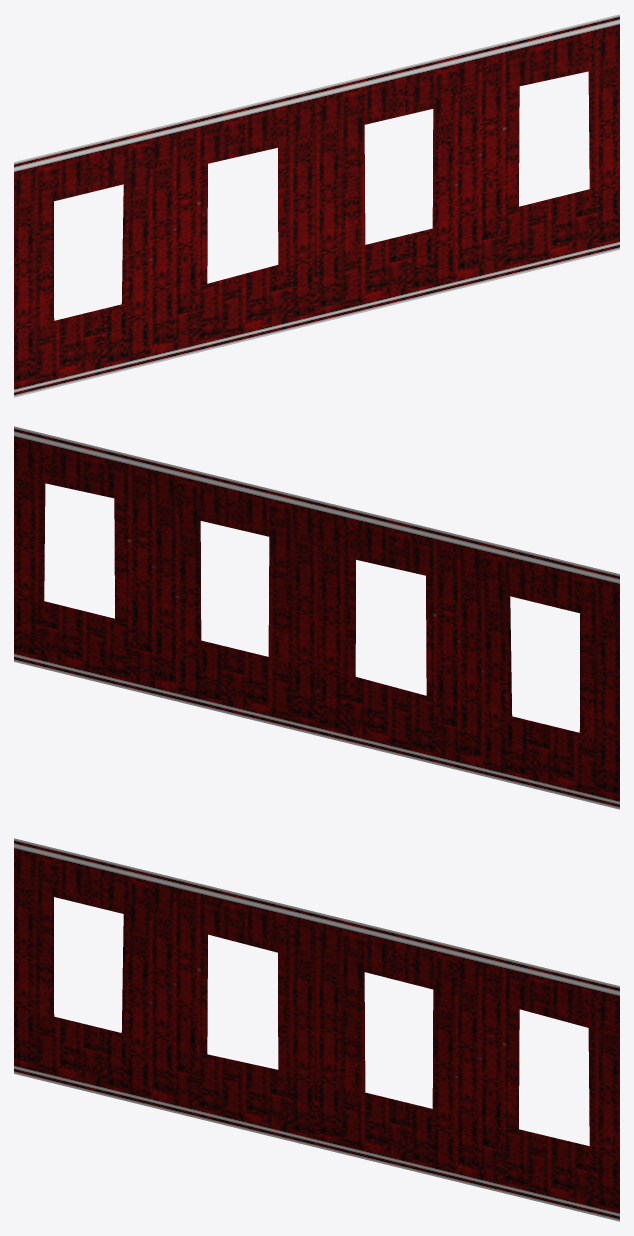
Rendered from W_AI1_ffff [Rot]_2098.glb.
3 renders of one model, top to bottom at view 1: azimuth 30°, elevation 25°; view 2: azimuth 150°, elevation 25°; view 3: azimuth 330°, elevation 25°, orthographic.
Parts seen in each view (by area): view 1: polySurfaceShape786; view 2: polySurfaceShape786; view 3: polySurfaceShape786.
Boxes of the visible parts, left/top/right/bottom form: polySurfaceShape786: left=14, top=14, right=619, bottom=397; polySurfaceShape786: left=14, top=426, right=619, bottom=809; polySurfaceShape786: left=14, top=838, right=619, bottom=1221.
Bounding box in the file's own units: 0.9385 × 0.3486 × 1.31e-07.
Materials: 1 (1 with a texture image).
